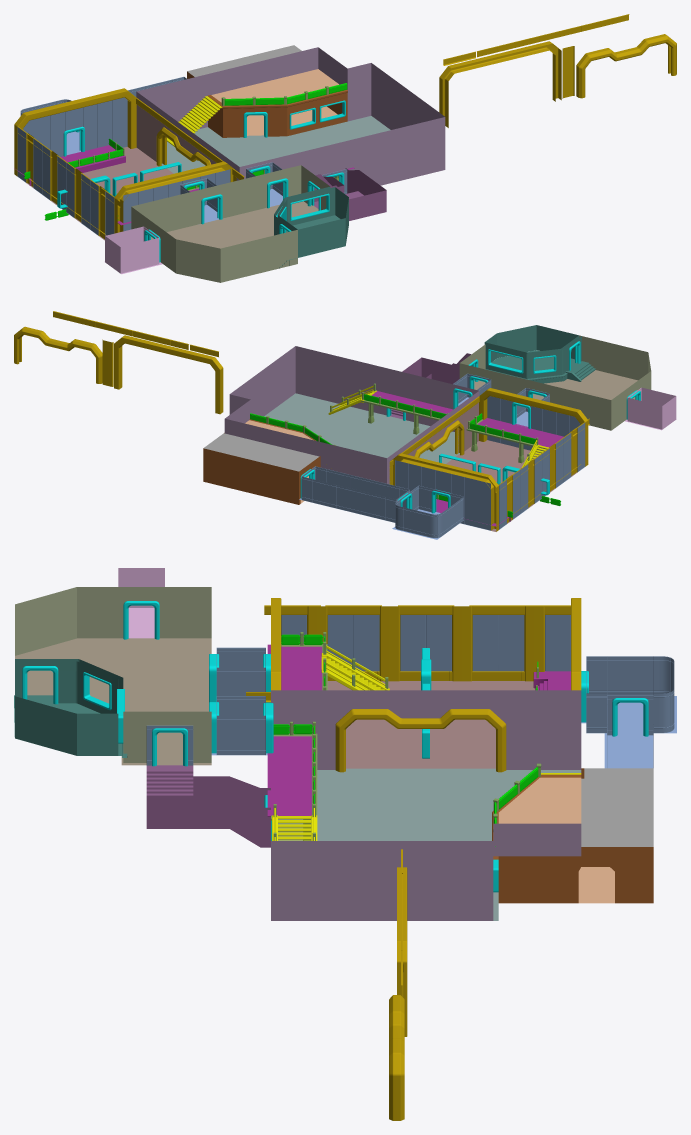
The model's file is LevelMesh.fbx.
The picture shows the model from 3 angles, top to bottom: view 1: azimuth 30°, elevation 25°; view 2: azimuth 150°, elevation 25°; view 3: azimuth 270°, elevation 25°; orthographic projection. The views are drawn at different scales.
Visible parts, largest first — view 1: walls (×3), floor (×2), wallBack, wallFront, facade_building_C, wallRight, WallFrame, TopFloor_building_C, WallFrame2, pPlane8, Ground, Big_Door_Ext2 (+20 smaller); view 2: walls (×3), floor (×2), wallBack, wallFront, internalWalls, wallRight, ceiling_building_C, WallFrame, Ground, Walls, WallFrame2, WallFrame1 (+25 smaller); view 3: floor (×3), wallRight, walls (×3), wallLeft, Ground, internalWalls, pPlane8, ceiling_building_C, corridor_floor_ext (×2), Instance_wallPanel_2 (×2), TopFloor_building_C, wallFront (+22 smaller).
Boxes of the visible parts, bbox=[...] form: walls (×3): bbox=[105, 165, 348, 282]; floor (×2): bbox=[151, 116, 390, 248]; wallBack: bbox=[239, 117, 445, 185]; wallFront: bbox=[137, 47, 371, 128]; facade_building_C: bbox=[208, 92, 347, 137]; wallRight: bbox=[371, 63, 444, 129]; WallFrame: bbox=[439, 41, 561, 127]; TopFloor_building_C: bbox=[211, 69, 338, 102]; WallFrame2: bbox=[14, 88, 136, 176]; pPlane8: bbox=[314, 168, 386, 220]; Ground: bbox=[26, 146, 173, 240]; Big_Door_Ext2: bbox=[576, 34, 676, 98]; walls (×3): bbox=[459, 325, 676, 430]; floor (×2): bbox=[264, 370, 637, 463]; wallBack: bbox=[295, 346, 478, 431]; wallFront: bbox=[224, 394, 386, 483]; internalWalls: bbox=[203, 433, 320, 504]; wallRight: bbox=[230, 346, 295, 416]; ceiling_building_C: bbox=[203, 433, 319, 471]; WallFrame: bbox=[114, 335, 223, 414]; Ground: bbox=[446, 440, 577, 531]; Walls: bbox=[484, 335, 581, 378]; WallFrame2: bbox=[389, 453, 498, 531]; WallFrame1: bbox=[479, 388, 588, 466]; floor (×3): bbox=[15, 608, 581, 920]; wallRight: bbox=[271, 841, 493, 920]; walls (×3): bbox=[15, 568, 211, 762]; wallLeft: bbox=[271, 690, 581, 769]; Ground: bbox=[327, 681, 535, 768]; internalWalls: bbox=[498, 768, 653, 903]; pPlane8: bbox=[146, 776, 270, 847]; ceiling_building_C: bbox=[581, 768, 653, 846]; corridor_floor_ext (×2): bbox=[267, 644, 322, 816]; Instance_wallPanel_2 (×2): bbox=[216, 667, 265, 755]; TopFloor_building_C: bbox=[498, 777, 581, 823]; wallFront: bbox=[493, 823, 581, 856].
Bounding box in the file's own units: 109 × 11.78 × 64.08.
